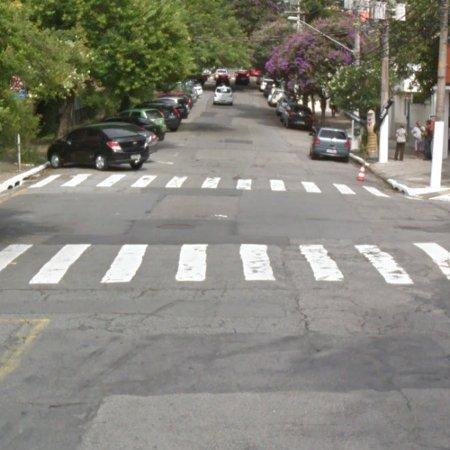crosswalks: (1, 238, 450, 291), (21, 171, 390, 198)
